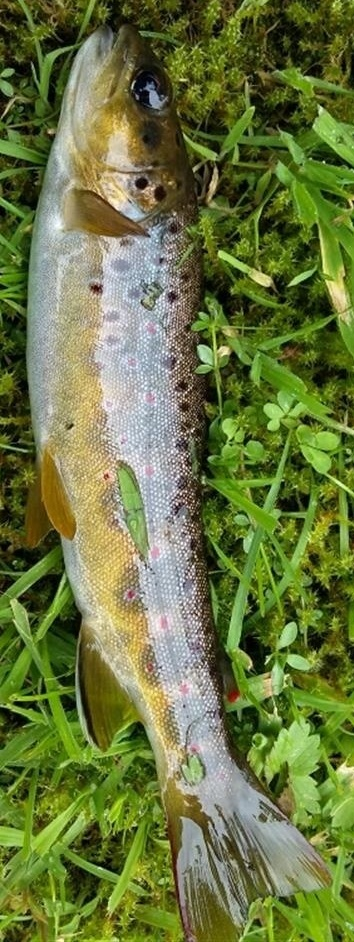Salmo trutta subsp. fario: (20, 20, 334, 942)
